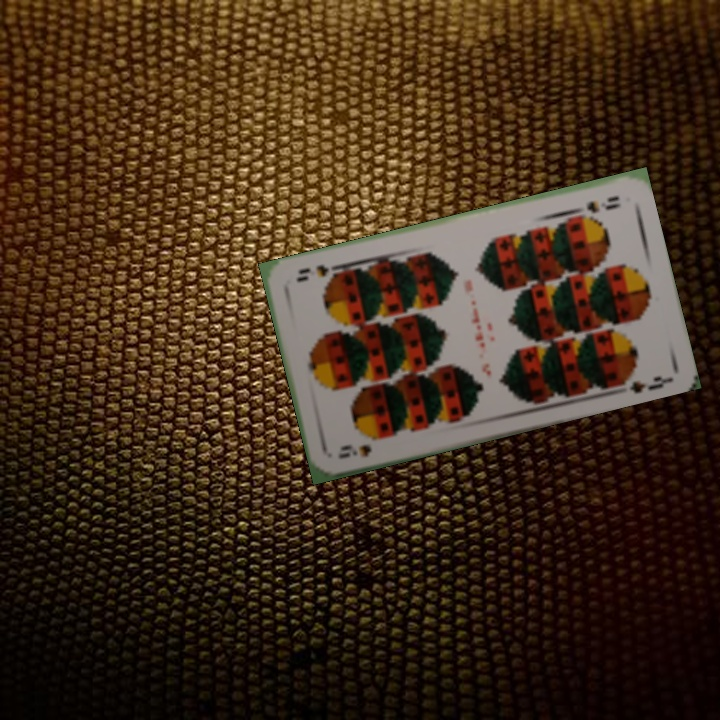S9: (583, 192, 623, 215), (334, 440, 374, 461)
